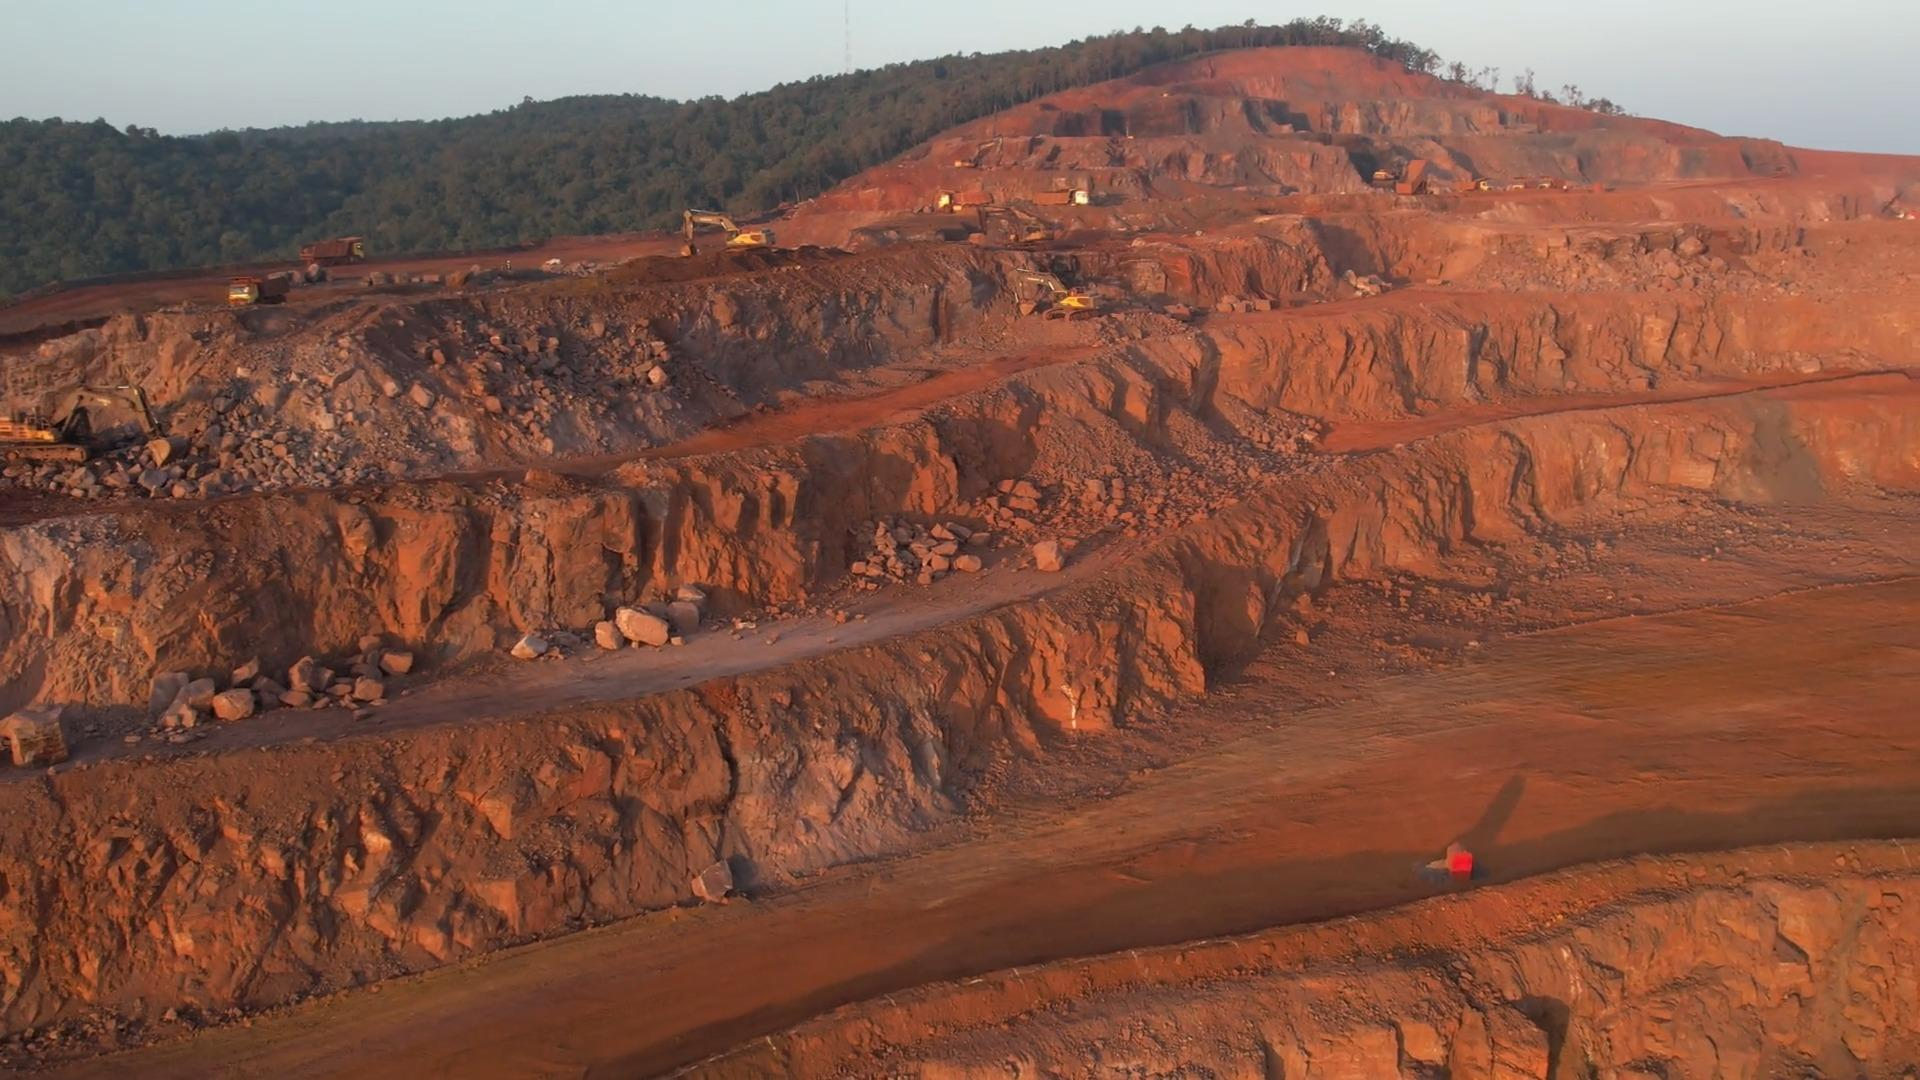excavator: (0, 381, 162, 465), (1012, 268, 1101, 321), (682, 208, 776, 256)
